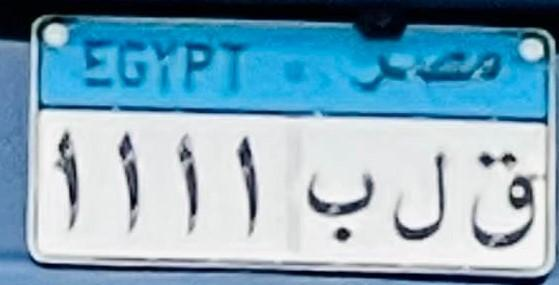1: (227, 128, 279, 238), (44, 132, 87, 234), (112, 126, 151, 234), (171, 133, 209, 235)
baa: (307, 166, 375, 250)
laam: (390, 142, 448, 254)
qaaf: (461, 134, 537, 262)
